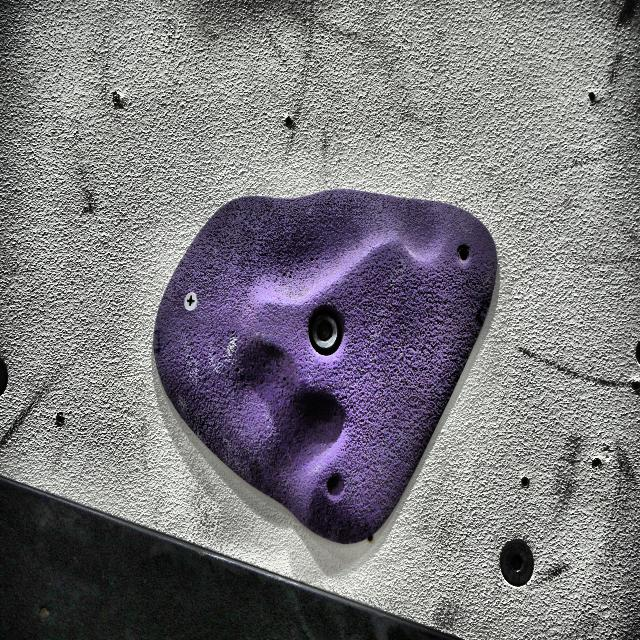Hold: (140, 180, 496, 555)
